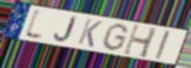G: (100, 22, 131, 52)
H: (121, 23, 159, 60)
I: (153, 29, 172, 61)
J: (54, 15, 78, 43)
K: (76, 18, 104, 49)
L: (22, 7, 46, 43)
